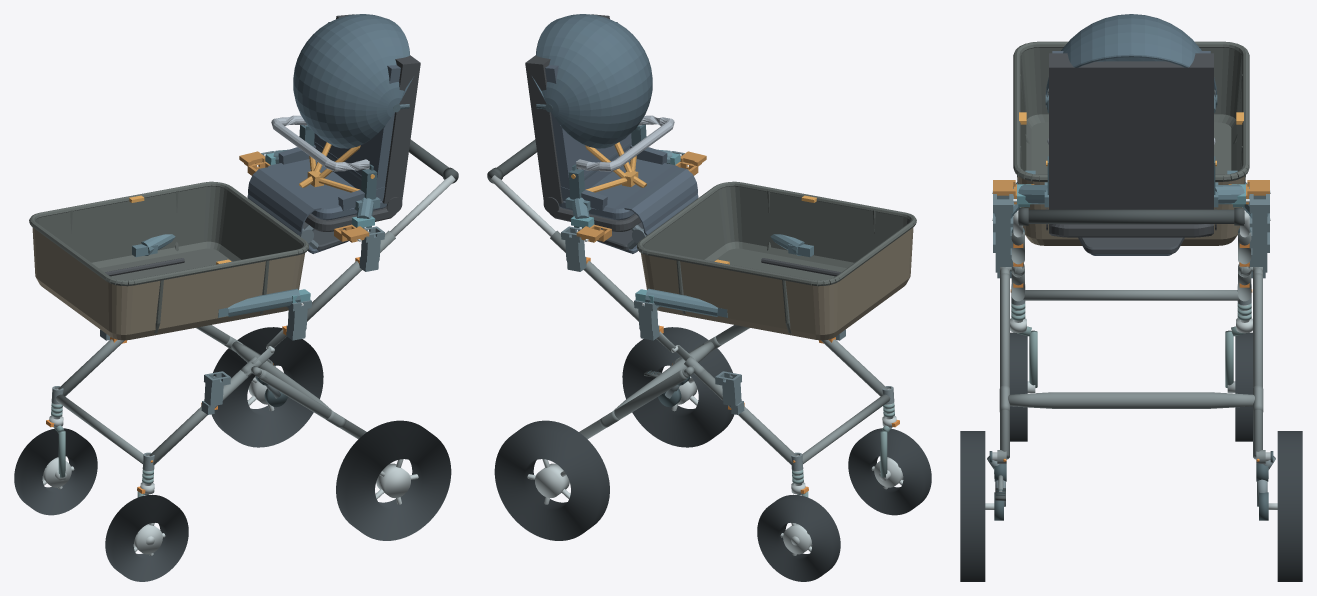
The model's file is D17_w650_state1_wheel_L.glb.
3 views of the same model, side by side, from view 1: azimuth 30°, elevation 25°; view 2: azimuth 150°, elevation 25°; view 3: azimuth 270°, elevation 25° (orthographic). The views are drawn at different scales.
Visible parts, largest first — view 1: D17_Lower, D17_Upper, RL_tire.008, RR_tire.008, FL_tire.008, FR_tire.008, D17_Lower_Mount_M, V46_rear_leg_-1.009, main_lower_-1.009, front_fixed_round_tube.008, main_upper_-1.009, main_lower_1.009 (+9 smaller); view 2: D17_Lower, D17_Upper, RR_tire.008, RL_tire.008, FR_tire.008, FL_tire.008, D17_Lower_Mount_M, V46_rear_leg_1.009, main_lower_1.009, front_fixed_round_tube.008, main_upper_1.009, main_lower_-1.009 (+9 smaller); view 3: D17_Upper, D17_Lower, V46_rearbar.009, RL_tire.008, RR_tire.008, round_handle.008, front_fixed_round_tube.008, FL_tire.008, FR_tire.008, V46_rear_leg_1.009, V46_rear_leg_-1.009, D17_Upper_Mount_H (+4 smaller).
Part boxes in pixels (<box>): D17_Lower: <box>29,181,308,340</box>; D17_Upper: <box>247,14,420,253</box>; RL_tire.008: <box>336,420,451,540</box>; RR_tire.008: <box>211,327,323,447</box>; FL_tire.008: <box>105,494,188,581</box>; FR_tire.008: <box>14,428,97,515</box>; D17_Lower_Mount_M: <box>132,234,310,317</box>; V46_rear_leg_-1.009: <box>259,370,366,439</box>; main_lower_-1.009: <box>149,370,251,465</box>; front_fixed_round_tube.008: <box>55,394,143,463</box>; main_upper_-1.009: <box>307,230,395,321</box>; main_lower_1.009: <box>58,339,124,396</box>; D17_Lower: <box>637,181,916,340</box>; D17_Upper: <box>525,14,698,253</box>; RR_tire.008: <box>494,420,609,540</box>; RL_tire.008: <box>622,327,734,447</box>; FR_tire.008: <box>757,494,840,581</box>; FL_tire.008: <box>848,428,931,515</box>; D17_Lower_Mount_M: <box>635,234,813,317</box>; V46_rear_leg_1.009: <box>579,370,686,439</box>; main_lower_1.009: <box>694,370,796,465</box>; front_fixed_round_tube.008: <box>802,394,890,463</box>; main_upper_1.009: <box>550,230,638,321</box>; main_lower_-1.009: <box>821,339,887,396</box>; D17_Upper: <box>1045,14,1217,255</box>; D17_Lower: <box>1013,41,1249,245</box>; V46_rearbar.009: <box>1008,392,1254,408</box>; RL_tire.008: <box>960,431,985,581</box>; RR_tire.008: <box>1277,431,1302,581</box>; round_handle.008: <box>1018,209,1244,223</box>; front_fixed_round_tube.008: <box>1023,290,1239,300</box>; FL_tire.008: <box>1010,332,1027,441</box>; FR_tire.008: <box>1235,332,1252,441</box>; V46_rear_leg_1.009: <box>1253,273,1262,459</box>; V46_rear_leg_-1.009: <box>1000,273,1009,459</box>; D17_Upper_Mount_H: <box>1013,182,1249,207</box>.
Bounding box in the file's own units: 1.2 × 1.51 × 0.8171.
